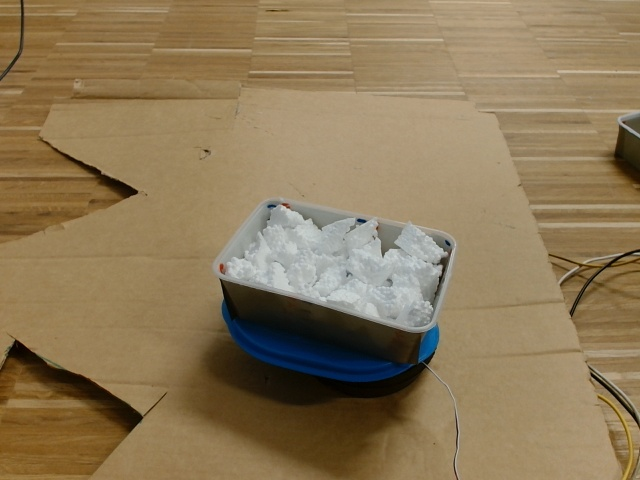Small_threequarter: (216, 195, 457, 335)
